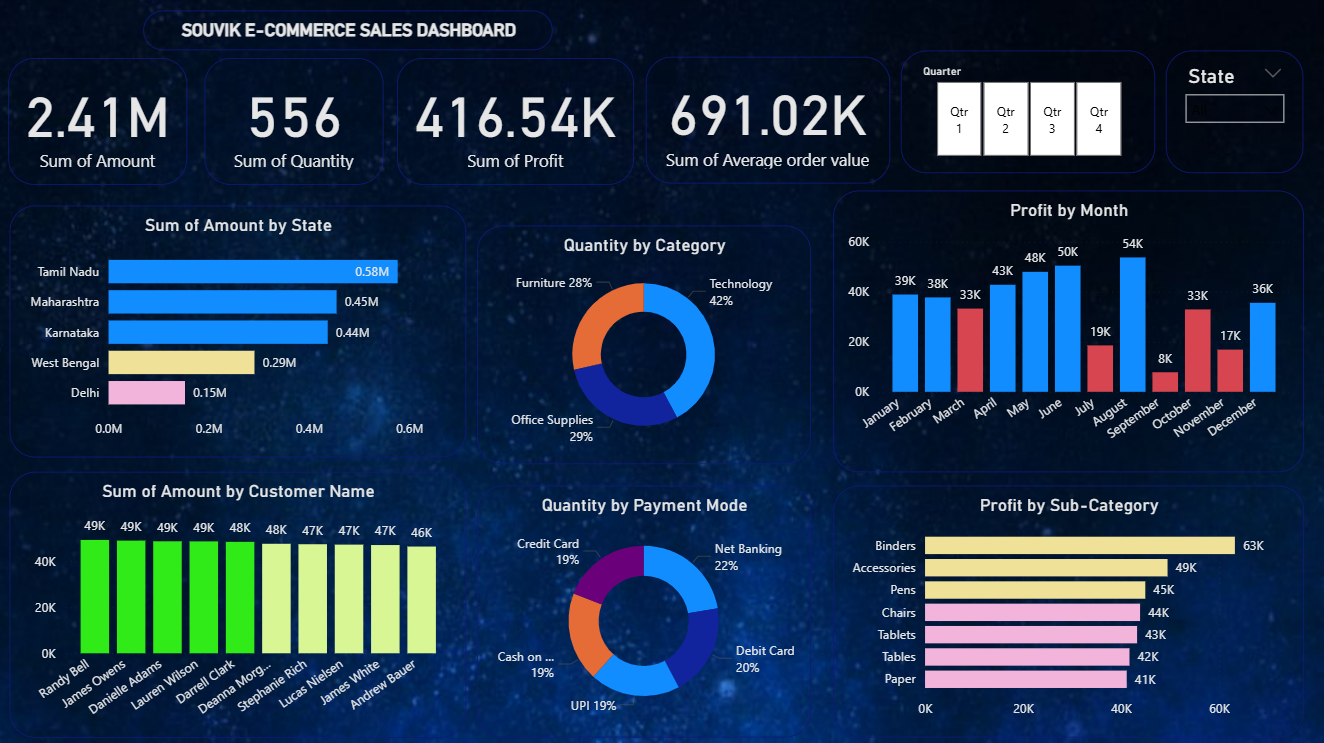

What the dashboard file says about the page in this screenshot:
{"tool":"powerbi","page":{"name":"Practice ","canvas":[1280,720],"ordinal":0},"visuals":[{"type":"textbox","title":"SOUVIK E-COMMERCE SALES DASHBOARD","box":[141.3,12.3,395.2,38.4],"z":0},{"type":"columnChart","title":"Profit by Month","fields":{"Y":["details.Profit"],"Category":["orders.Order Date.Variation.Date Hierarchy.Month"]},"box":[806.9,185.2,454.2,271.7],"z":1000},{"type":"barChart","title":"Profit by Sub-Category","fields":{"Category":["details.Sub-Category"],"Y":["details.Profit"]},"box":[806.9,470.7,454.2,242.9],"z":2000},{"type":"donutChart","title":"Quantity by Category","fields":{"Category":["details.Category"],"Y":["details.Quantity"]},"box":[463.8,219.6,322.5,230.5],"z":3000},{"type":"donutChart","title":"Quantity by Payment Mode","fields":{"Y":["details.Quantity"],"Category":["details.Payment Mode"]},"box":[463.8,470.7,322.5,242.9],"z":4000},{"type":"card","fields":{"Values":["details.Amount"]},"box":[11,57.6,172.9,122.1],"z":5000},{"type":"card","fields":{"Values":["details.Quantity"]},"box":[200.3,57.6,172.9,122],"z":6000},{"type":"card","fields":{"Values":["details.Profit"]},"box":[385.6,57.6,229.2,122.1],"z":7000},{"type":"card","fields":{"Values":["details.Average order value"]},"box":[625.7,56.3,236,122.1],"z":8000},{"type":"barChart","title":"Sum of Amount by State","fields":{"Category":["orders.State"],"Y":["details.Amount"]},"box":[12.3,200.3,440.5,242.9],"z":9000},{"type":"columnChart","title":"Sum of Amount by Customer Name","fields":{"Category":["orders.Customer Name"],"Y":["details.Amount"]},"box":[12.3,456.9,440.5,256.6],"z":10000},{"type":"slicer","fields":{"Values":["orders.Order Date.Variation.Date Hierarchy.Quarter"]},"box":[872.7,50.8,245.6,118],"z":11000},{"type":"slicer","fields":{"Values":["orders.State"]},"box":[1128,50.8,133.1,118],"z":12000}]}

Visuals, with their boxes in screenshot pixels (x1, y1, x2, y2), scaled from the page's 1280x720 canvas onto the 1324x743 screenshot:
"SOUVIK E-COMMERCE SALES DASHBOARD" textbox: left=146, top=13, right=555, bottom=52
"Profit by Month" columnChart: left=835, top=191, right=1304, bottom=471
"Profit by Sub-Category" barChart: left=835, top=486, right=1304, bottom=736
"Quantity by Category" donutChart: left=480, top=227, right=813, bottom=464
"Quantity by Payment Mode" donutChart: left=480, top=486, right=813, bottom=736
card - details.Amount: left=11, top=59, right=190, bottom=185
card - details.Quantity: left=207, top=59, right=386, bottom=185
card - details.Profit: left=399, top=59, right=636, bottom=185
card - details.Average order value: left=647, top=58, right=891, bottom=184
"Sum of Amount by State" barChart: left=13, top=207, right=468, bottom=457
"Sum of Amount by Customer Name" columnChart: left=13, top=471, right=468, bottom=736
slicer - orders.Order Date.Variation.Date Hierarchy.Quarter: left=903, top=52, right=1157, bottom=174
slicer - orders.State: left=1167, top=52, right=1304, bottom=174
